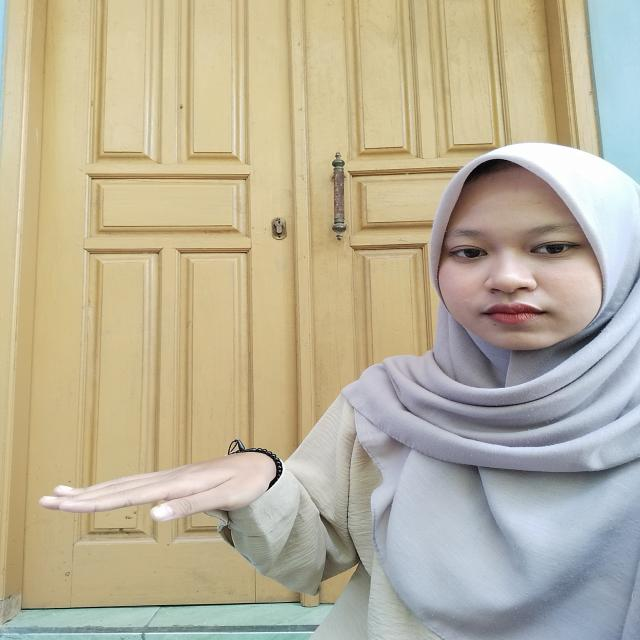adik: (17, 436, 300, 534)
